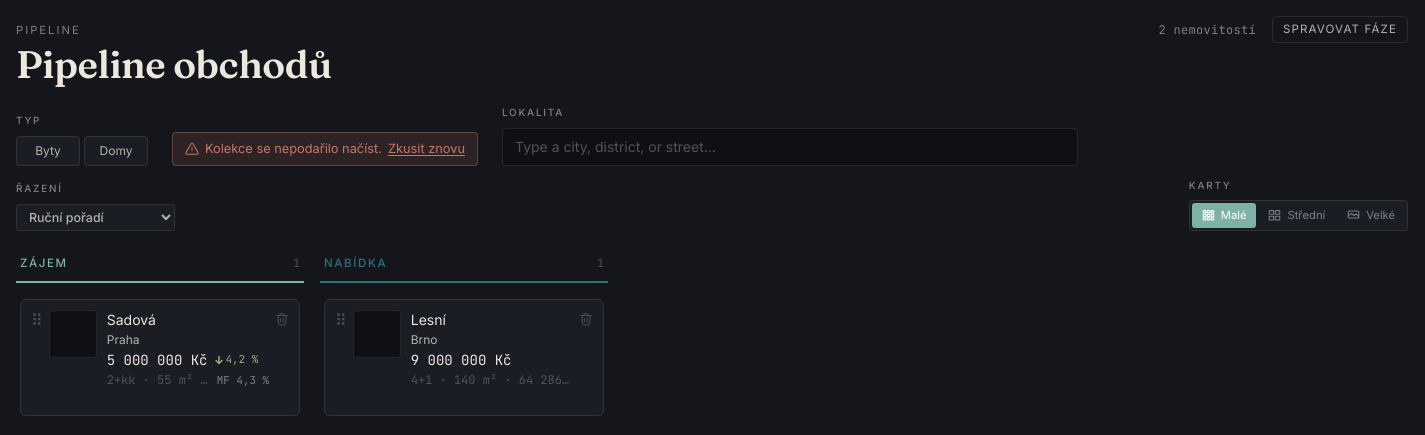
Test: <Pipeline> board › applies no collection constraint when the member map errors, and offers a retry
Expected: the text "2 nemovitostí" is shown, [1158,21,1256,39]
Expected: the link "Sadová" is shown, [107,310,156,328]
Click the button "Kolekce se nepodařilo načíst. Zkusit znovu" at (325, 149), box [172,132,478,166]
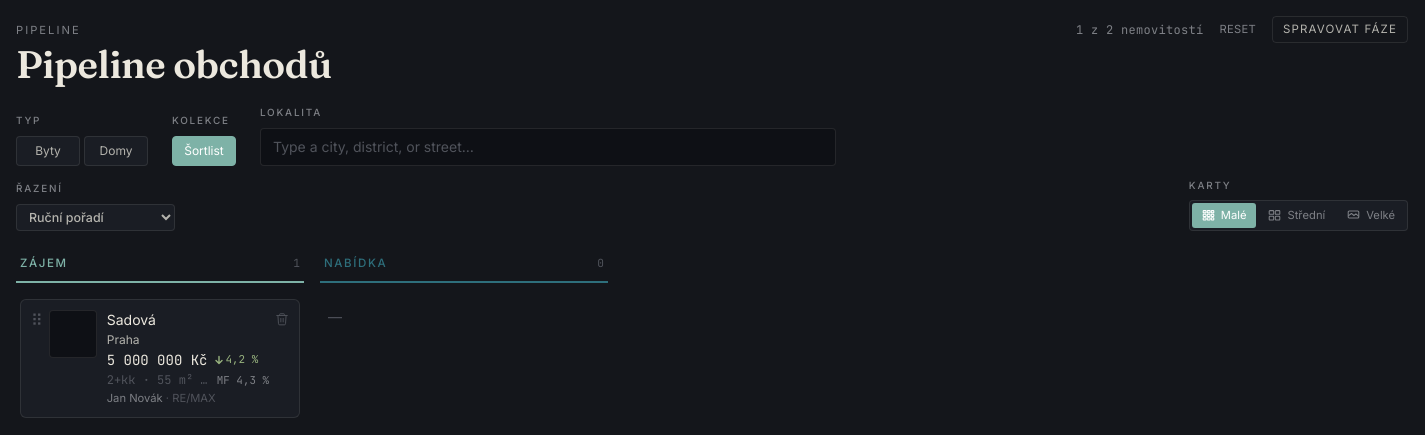
Expected: the text "1 z 2 nemovitostí" is shown, [1076,21,1203,39]
